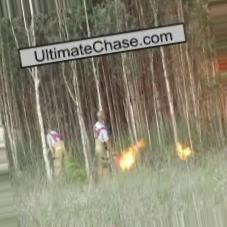fire: (118, 136, 147, 169), (172, 136, 192, 161)
